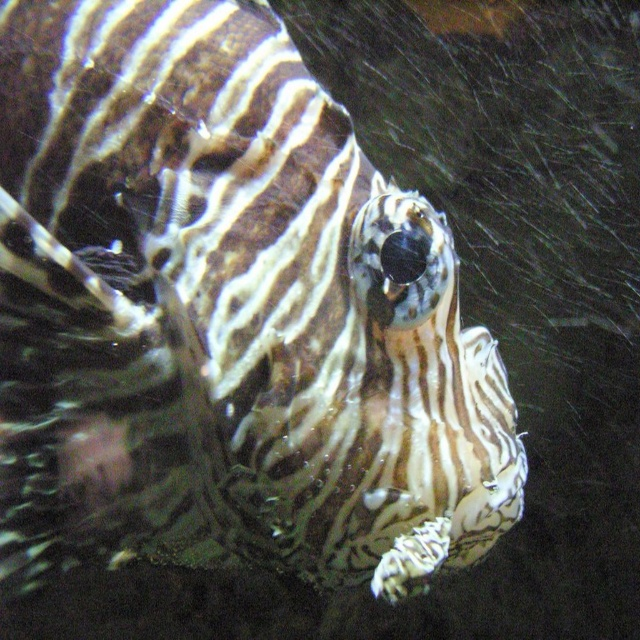Fish: (1, 0, 518, 599)
